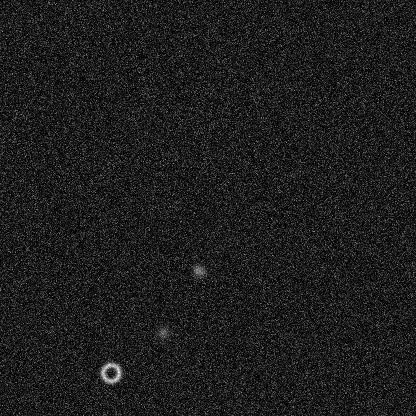Ring: (98, 360, 122, 384)
Spot: (154, 324, 170, 340), (191, 262, 207, 278)
